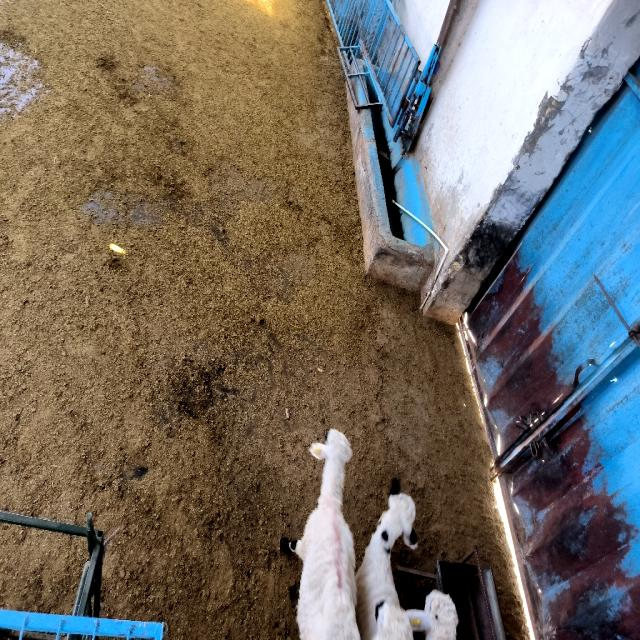sheep: (280, 430, 360, 639), (355, 478, 418, 639)
